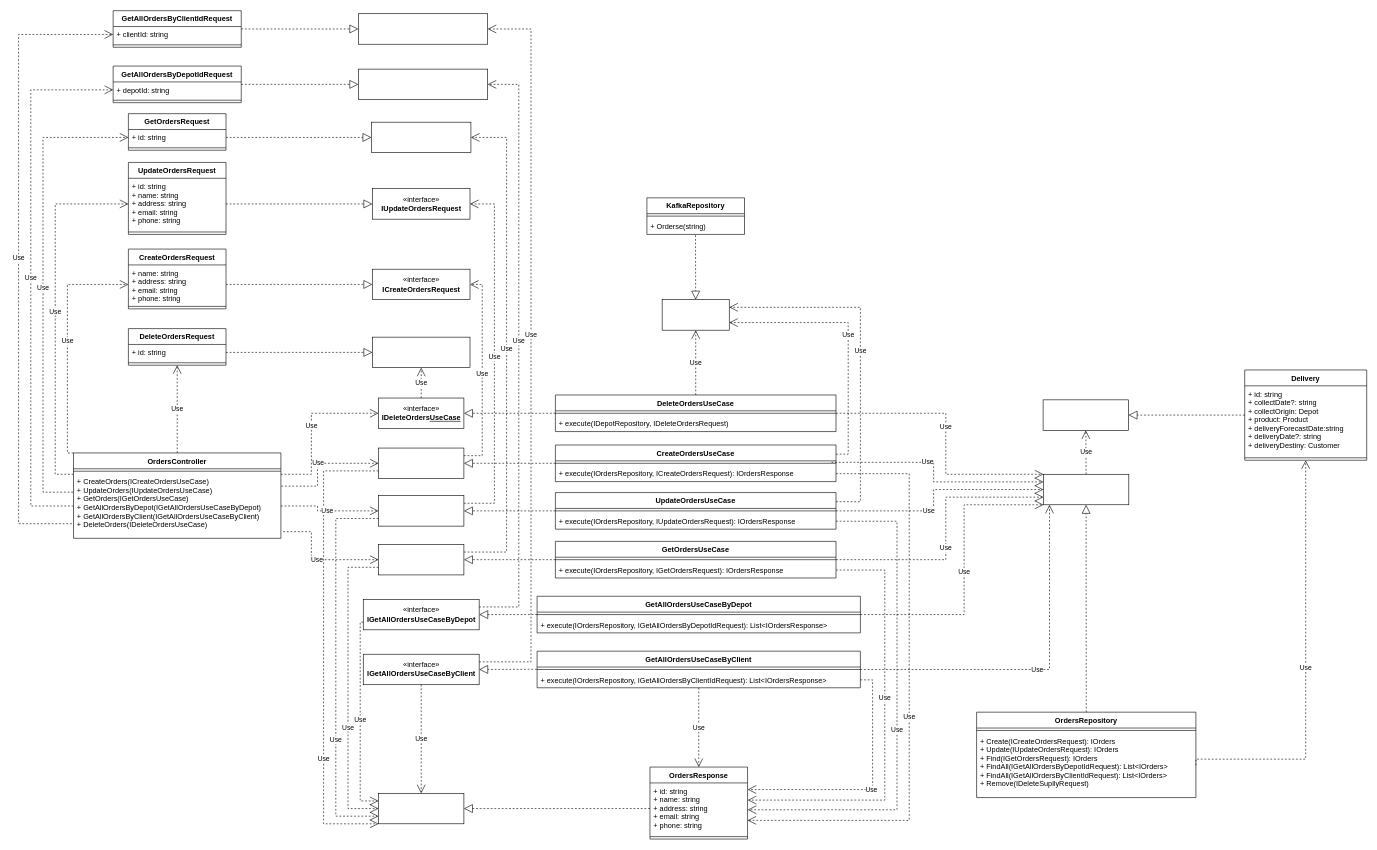
Image size: 1377x850. Some labels were removed from this diagram. The centre of each missing label's shape, as x and y in pixels:
"«interface» ICreateOrdersUseCase" belongs at point 421,463.
"«interface» IDeleteOrdersRequest" belongs at point 421,352.
"«interface» IDelivery" belongs at point 1085,414.
"«interface» IGetAllOrdersByClientIdRequest" belongs at point 423,28.
"«interface» IGetAllOrdersByDepotIdRequest" belongs at point 423,84.
"«interface» IGetOrdersRequest" belongs at point 421,137.
"«interface» IGetOrdersUseCase" belongs at point 421,559.
"«interface» IKafkaRepository" belongs at point 695,314.
"«interface» IOrdersRepository" belongs at point 1086,489.
"«interface» IOrdersResponse" belongs at point 421,808.
"«interface» IUpdateOrdersUseCase" belongs at point 421,510.
